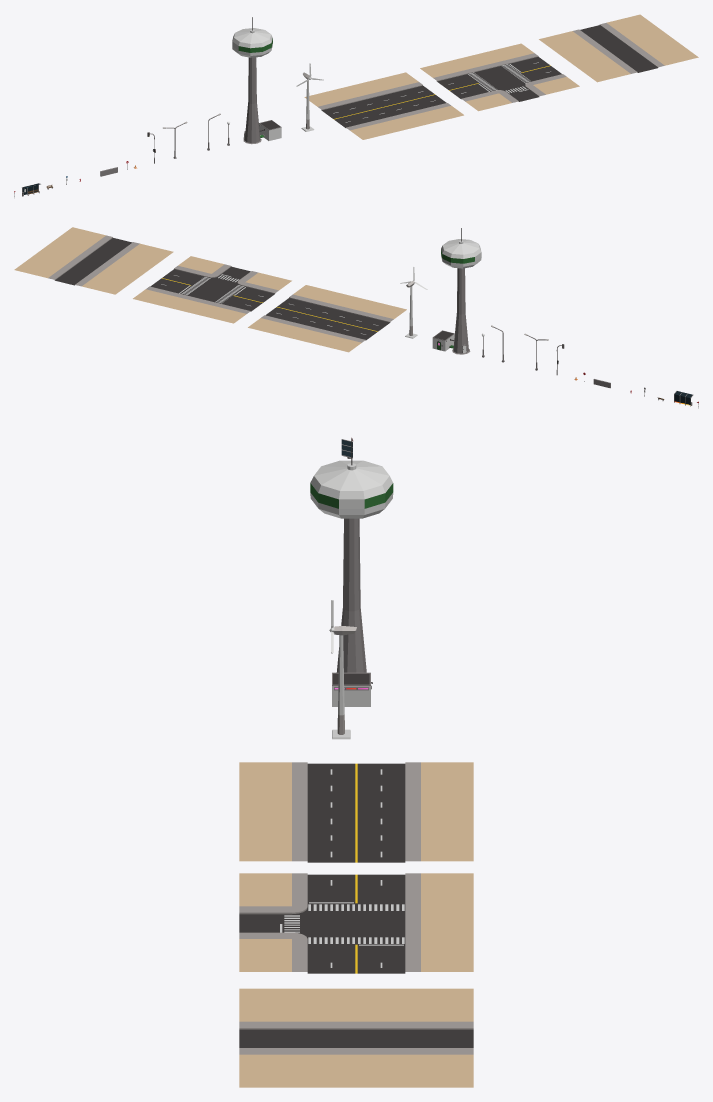
Rendered from street-props.glb.
The picture shows the model from 3 angles, top to bottom: view 1: azimuth 30°, elevation 25°; view 2: azimuth 150°, elevation 25°; view 3: azimuth 270°, elevation 25°; orthographic projection. The views are drawn at different scales.
Visible parts, largest first — view 1: tile-road-mainroad-intersection-t, tile-road-straight, mainroad-straight, water-tower-big; view 2: tile-road-straight, mainroad-straight, tile-road-mainroad-intersection-t, water-tower-big; view 3: mainroad-straight, tile-road-straight, tile-road-mainroad-intersection-t, water-tower-big, windmill-base.
Boxes of the visible parts, x1,y1,x2,y2 form: tile-road-mainroad-intersection-t: (420, 43, 579, 111); tile-road-straight: (539, 14, 698, 82); mainroad-straight: (304, 72, 463, 139); water-tower-big: (232, 17, 281, 144); tile-road-straight: (14, 227, 173, 294); mainroad-straight: (248, 285, 406, 352); tile-road-mainroad-intersection-t: (133, 256, 291, 323); water-tower-big: (432, 228, 481, 354); mainroad-straight: (239, 762, 473, 862); tile-road-straight: (239, 988, 473, 1087); tile-road-mainroad-intersection-t: (239, 873, 473, 973); water-tower-big: (310, 438, 393, 706); windmill-base: (332, 626, 356, 739).
Size of the model in its own units: 194 by 34.67 by 30.
1 material, 1 textured.
